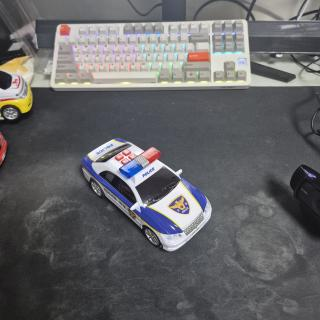Police_car: (82, 138, 212, 251)
